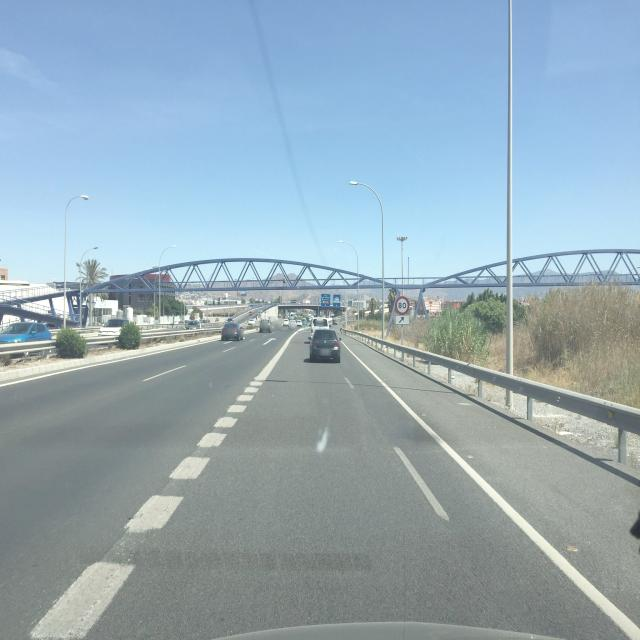car: (0, 322, 53, 346), (308, 327, 341, 363), (98, 317, 130, 336), (220, 321, 245, 341), (184, 320, 206, 330), (258, 320, 273, 334), (246, 318, 256, 328), (282, 318, 290, 328)
